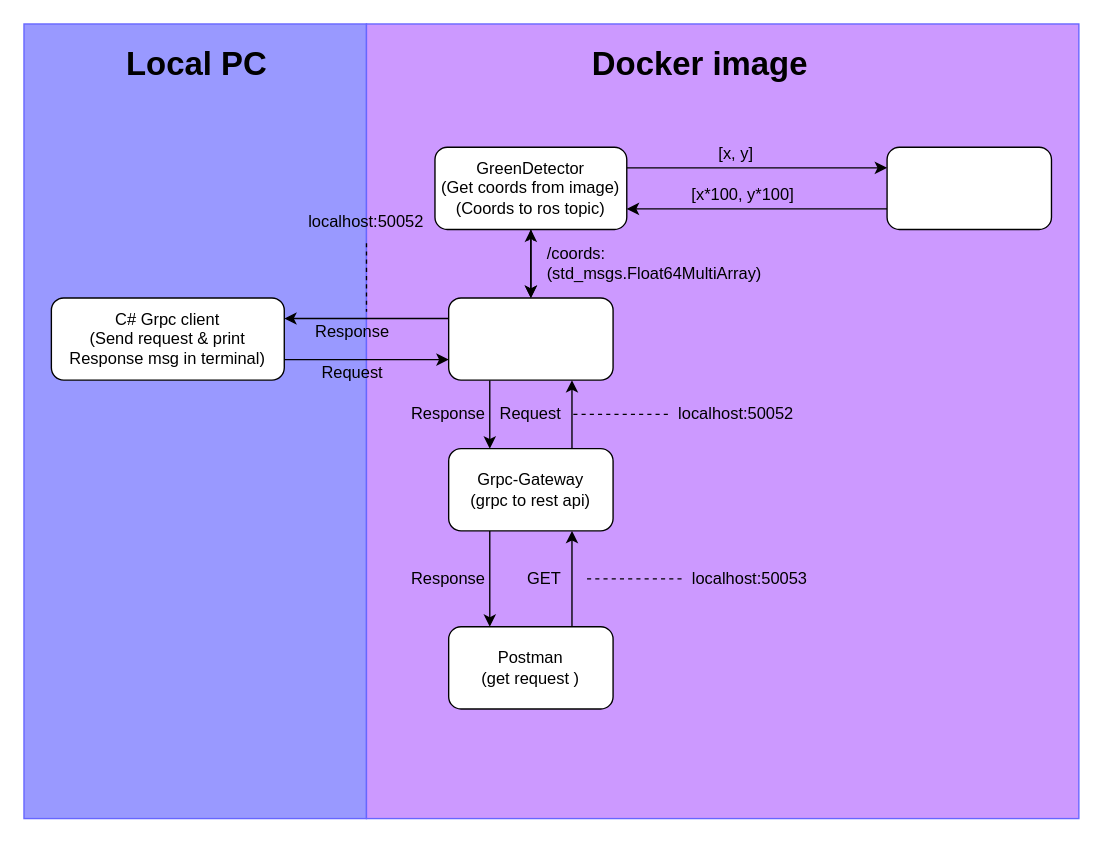
The diagram is 1103 pixels wide and 843 high, and some of its shapes have lost their labels. Here are the shapes that lost their labels. From the top down, the centre of each, then its label:
the point at 968,187: Multiplying by 100 (C++ Library)
the point at 530,338: Grpc_Wrapper (ros msg to grpc)
